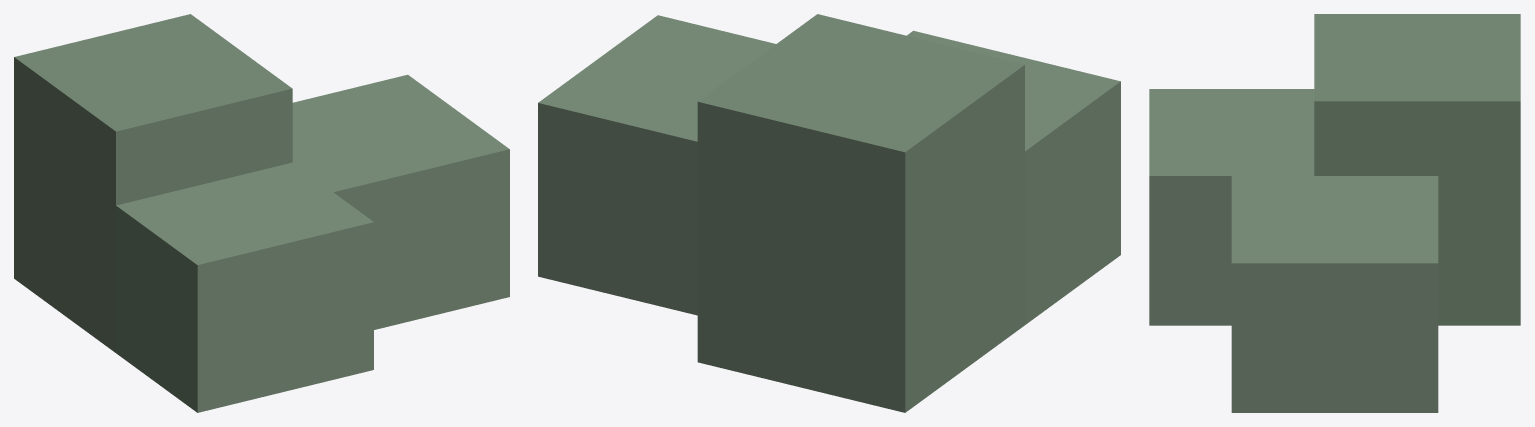
Rendered from roca_musgosa_02.glb.
3 renders of one model, left to right at view 1: azimuth 30°, elevation 25°; view 2: azimuth 150°, elevation 25°; view 3: azimuth 270°, elevation 25°, orthographic. The views are drawn at different scales.
Visible parts, largest first — view 1: roca_musgosa_02; view 2: roca_musgosa_02; view 3: roca_musgosa_02.
Part boxes in pixels (x1,y1,x2,y2): roca_musgosa_02: [14, 14, 509, 412]; roca_musgosa_02: [538, 14, 1120, 412]; roca_musgosa_02: [1149, 14, 1520, 412].
Bounding box in the file's own units: 1 × 0.6 × 0.9.
